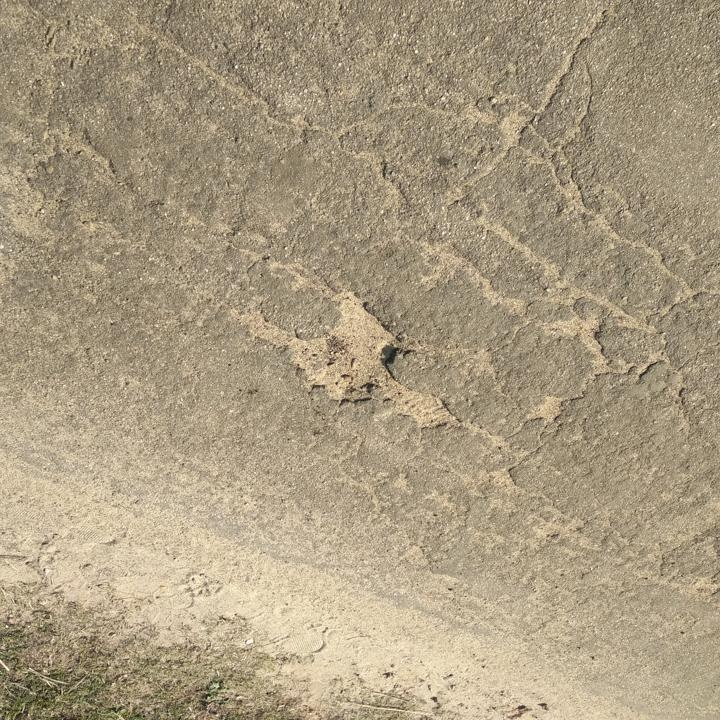pothole: (243, 289, 460, 432)
